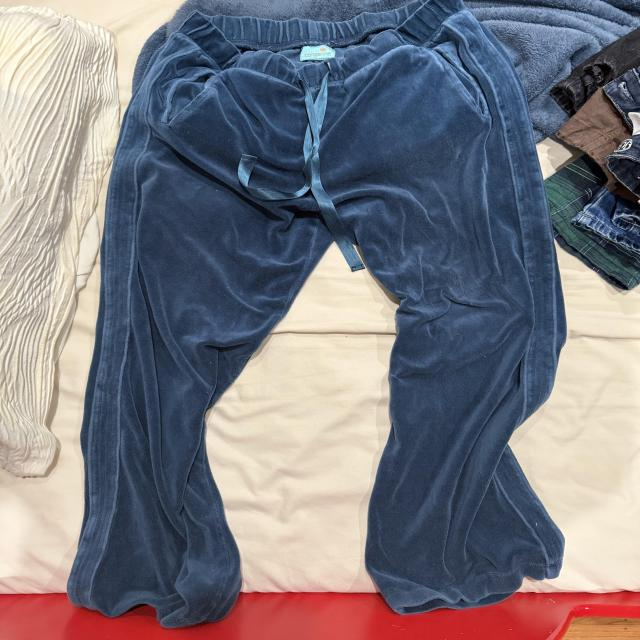back_tag: (290, 41, 342, 64)
